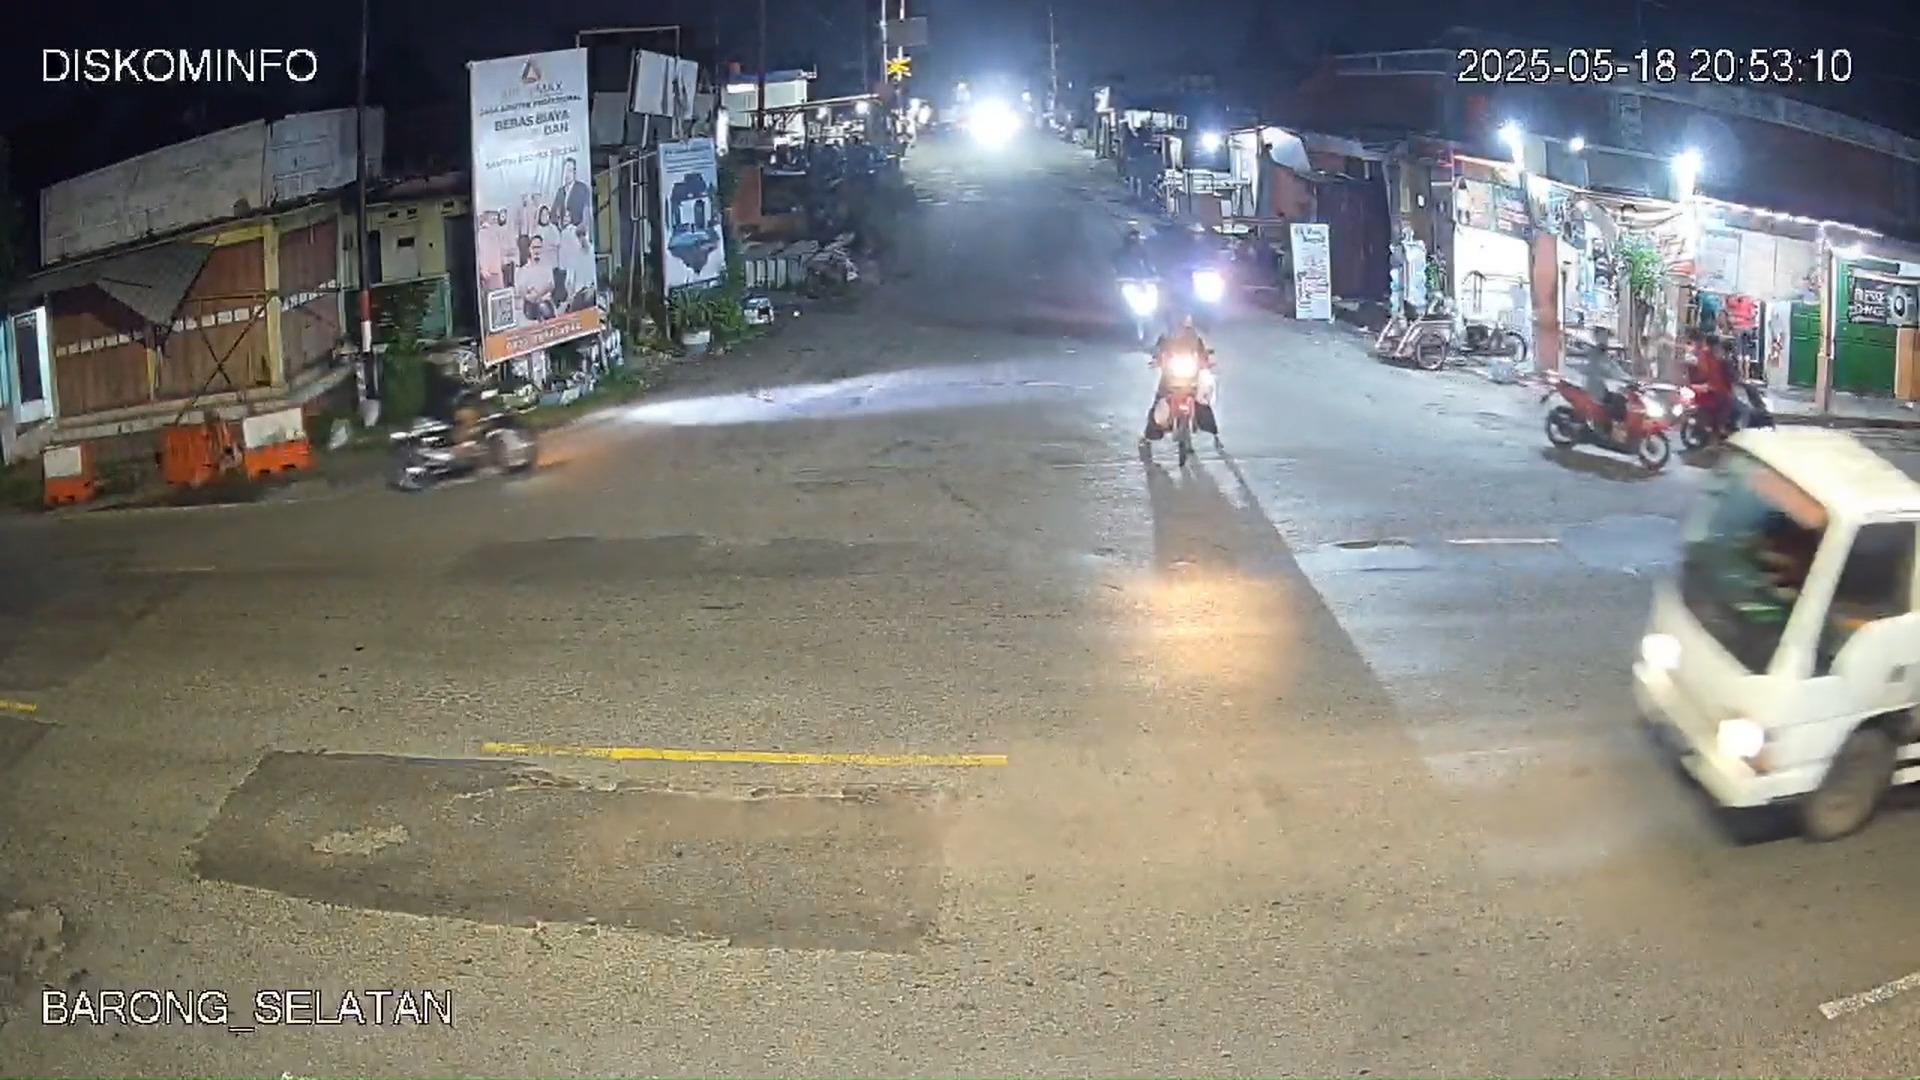Motor: (1130, 291, 1218, 452)
mobil: (1630, 434, 1912, 843)
